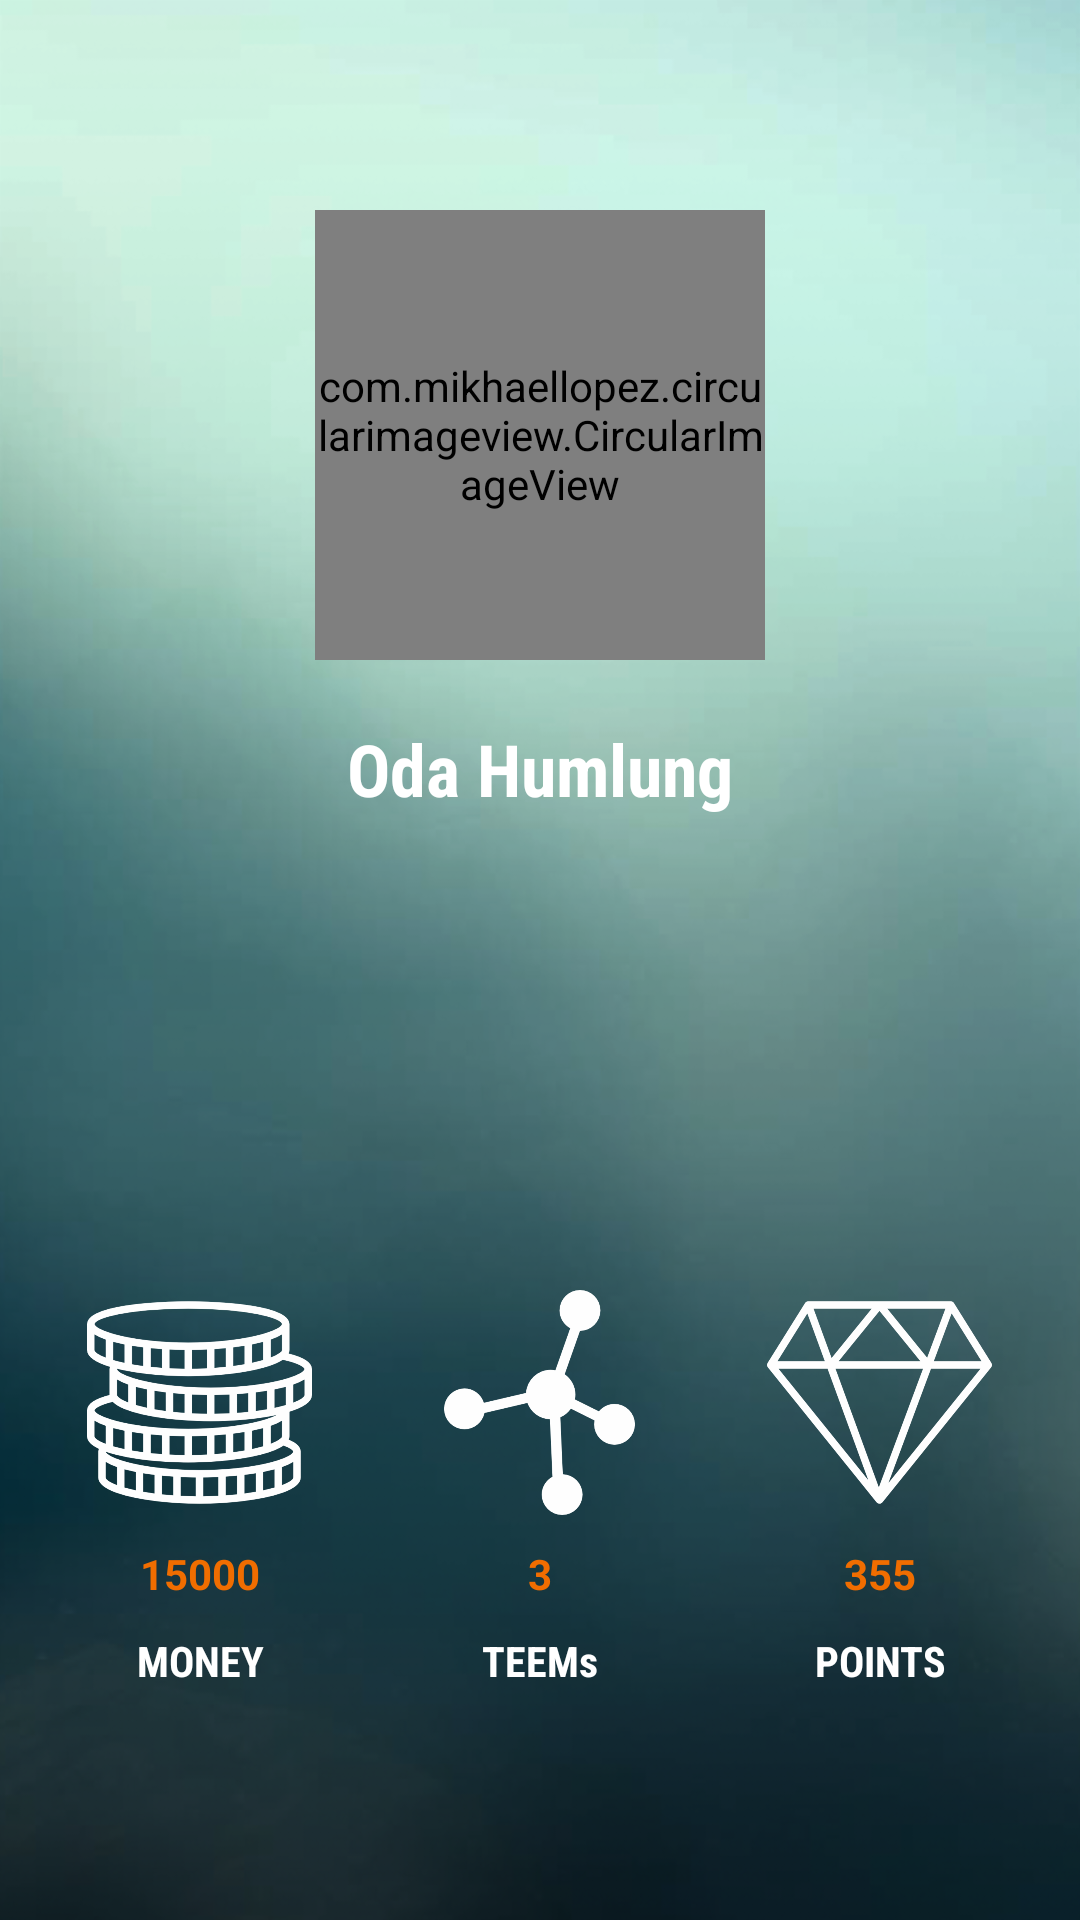

Screen size 1080 × 1920. Icon name, then its center in pixels as (x=x, y=y):
atom molecule: (x=539, y=1402)
coins: (x=199, y=1402)
diamond: (x=879, y=1397)
